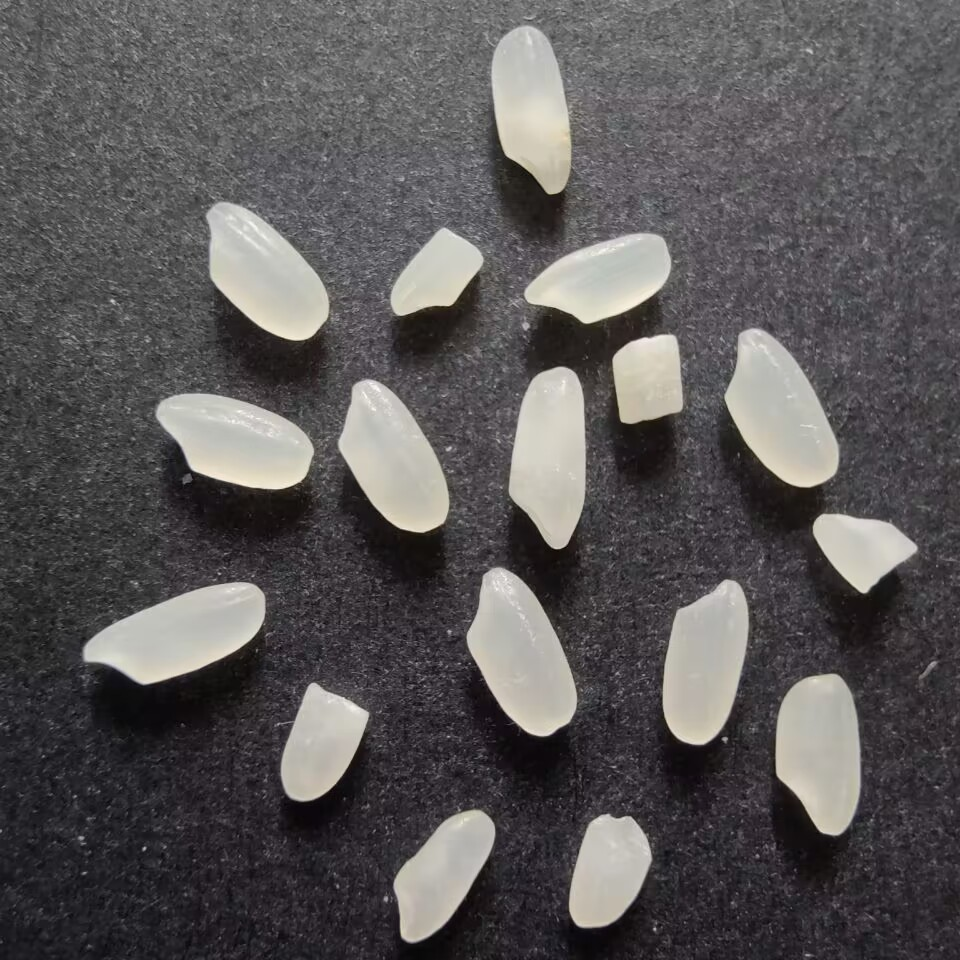broken: (279, 677, 373, 805), (566, 811, 658, 932), (809, 506, 921, 600), (386, 224, 485, 317), (610, 330, 689, 429)
rice: (460, 564, 579, 741), (77, 578, 270, 687), (197, 198, 335, 344), (722, 324, 841, 491), (337, 378, 452, 537), (152, 391, 318, 492), (481, 25, 573, 200), (505, 365, 589, 552), (771, 669, 862, 841), (389, 807, 499, 945), (520, 229, 671, 327), (661, 576, 748, 746)
